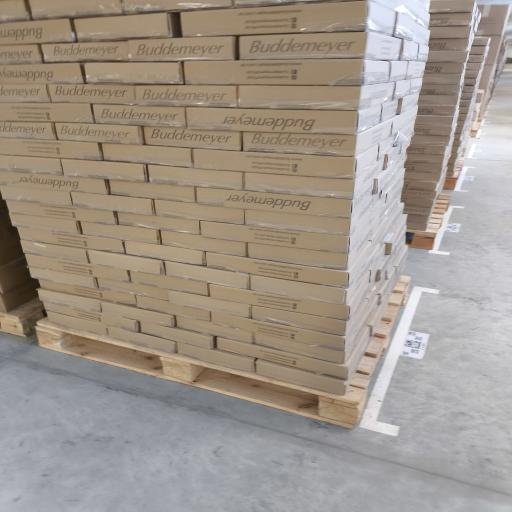pallet: (36, 277, 410, 428), (407, 193, 450, 250), (0, 299, 44, 336), (444, 157, 464, 190), (470, 120, 481, 137)
